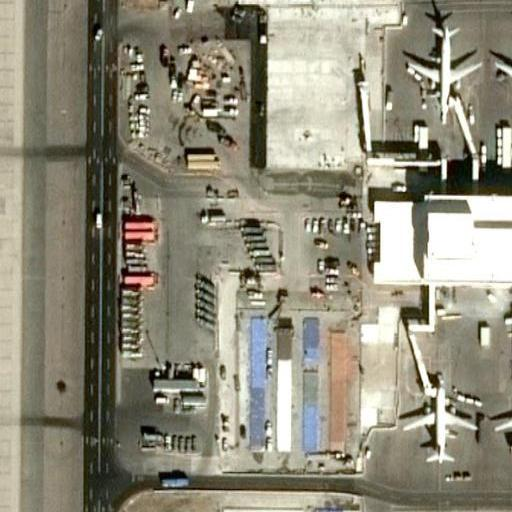Aircraft: (403, 17, 483, 121), (398, 379, 487, 464), (485, 367, 512, 464), (490, 16, 512, 127)
